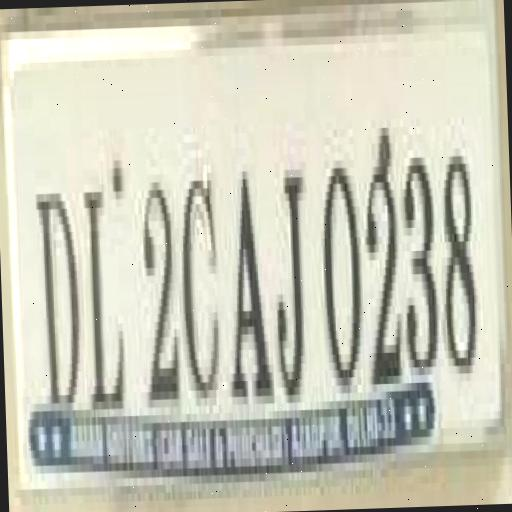number plate: (0, 15, 497, 474)
